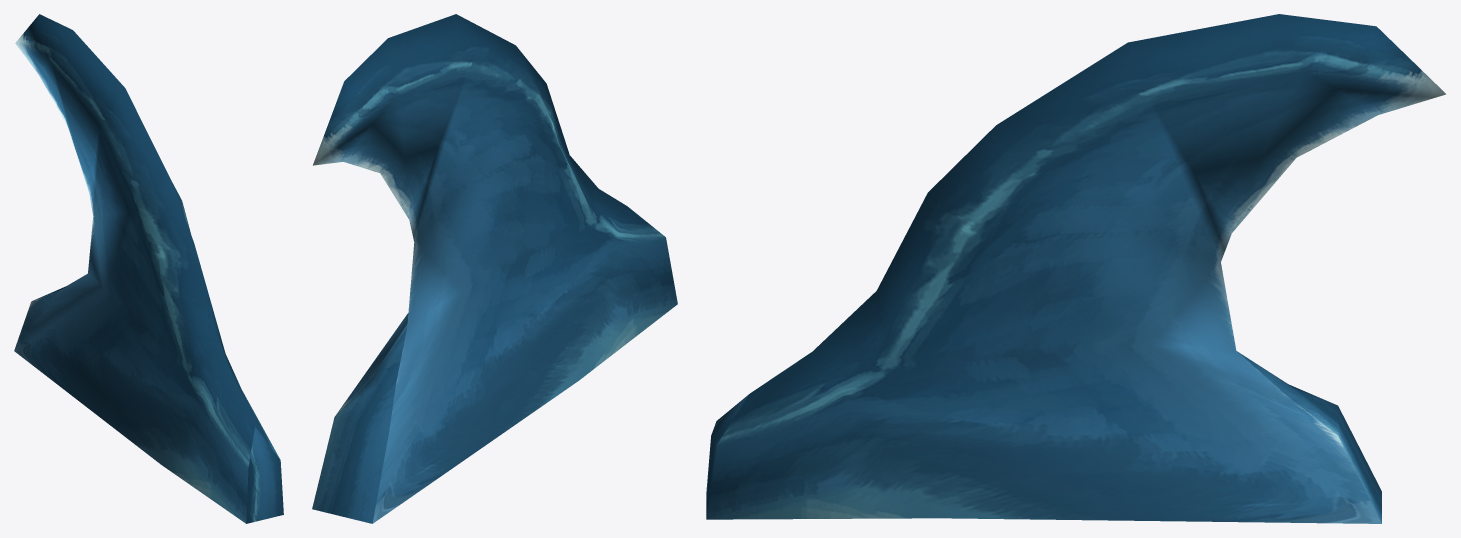
The model's file is pinna.FBX.
3 views of the same model, side by side, from view 1: azimuth 30°, elevation 25°; view 2: azimuth 150°, elevation 25°; view 3: azimuth 270°, elevation 25° (orthographic). The views are drawn at different scales.
Visible parts, largest first — view 1: Pinna001; view 2: Pinna001; view 3: Pinna001.
Part boxes in pixels (bbox=[...]): Pinna001: bbox=[14, 14, 283, 523]; Pinna001: bbox=[312, 14, 677, 523]; Pinna001: bbox=[706, 14, 1445, 523].
Bounding box in the file's own units: 1.67 × 10.5 × 14.19.
1 material, 1 textured.
